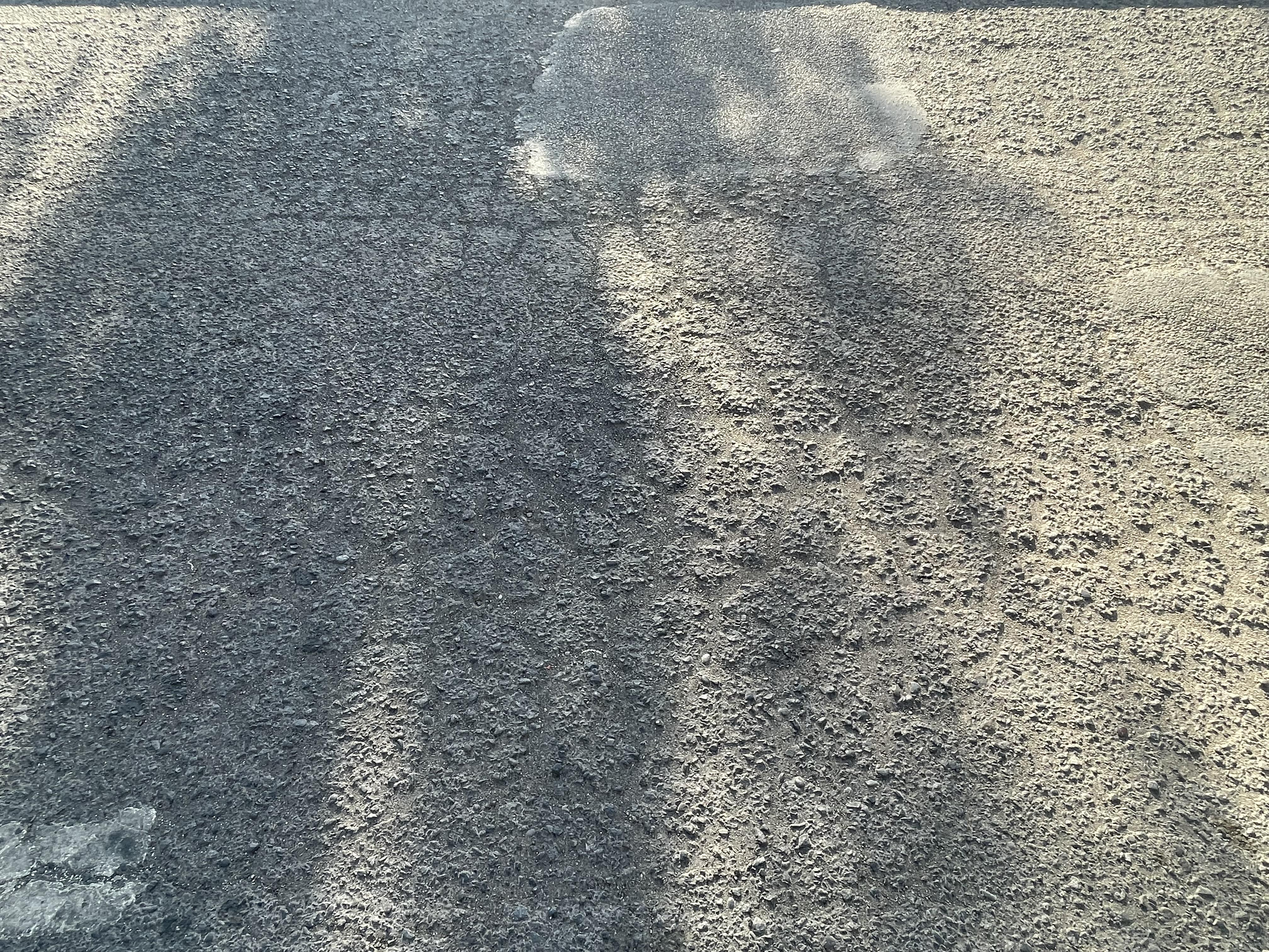PARCHE: (517, 4, 928, 184)
PIEL DE COCODRILO: (0, 0, 1269, 952)
